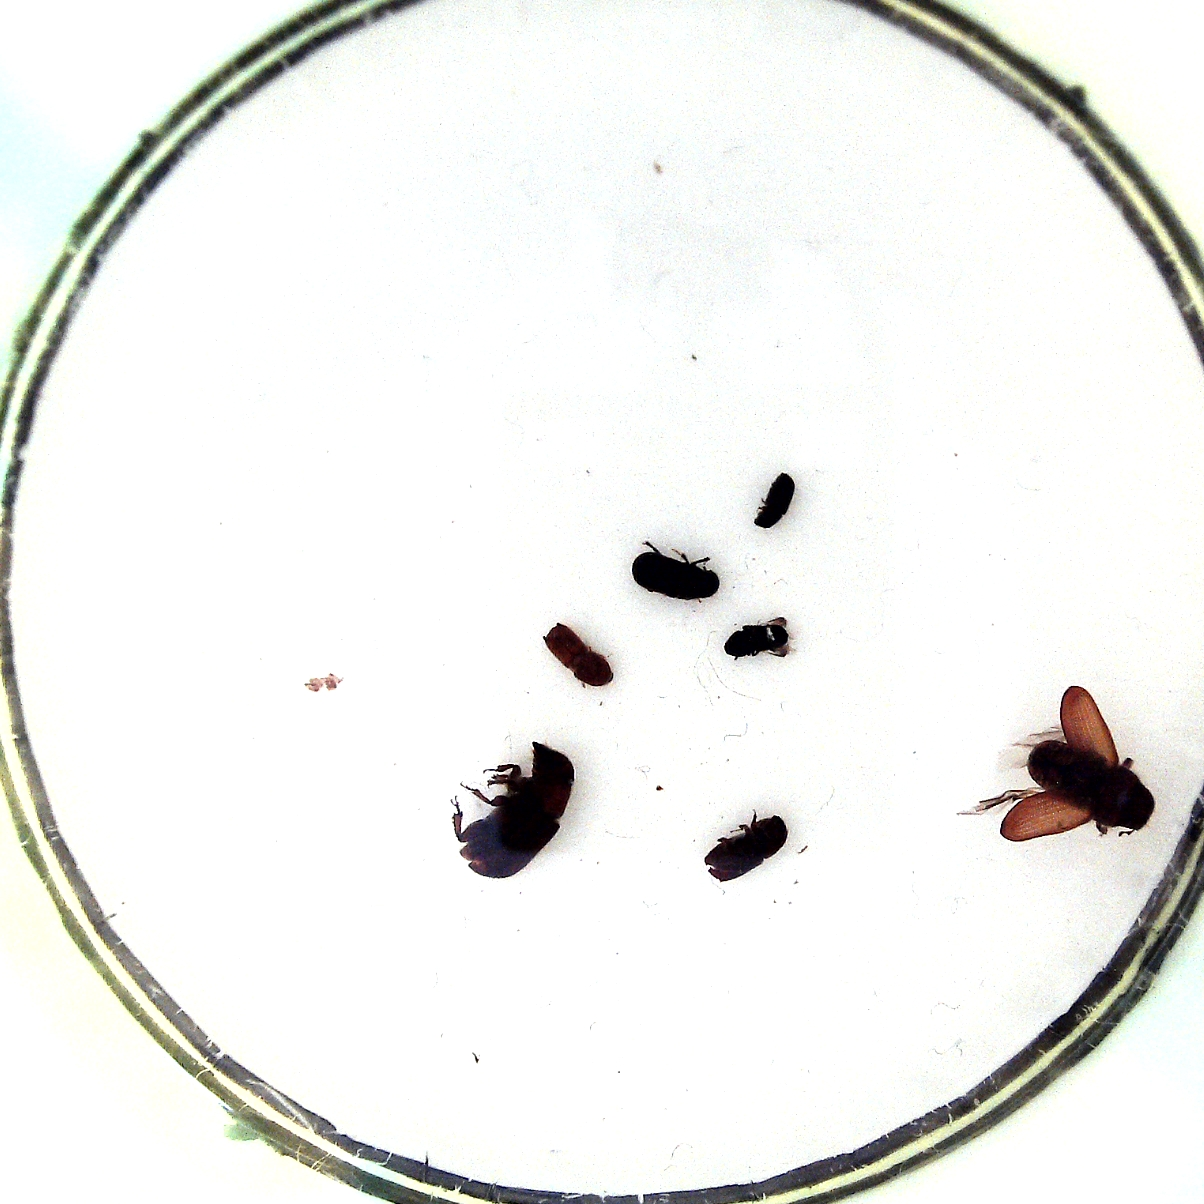Leconte: (963, 678, 1155, 842), (434, 737, 580, 880)
Linnaeus: (700, 809, 793, 886)
acuminatus: (537, 623, 619, 690)
armandi: (624, 542, 723, 605)
coleoptera: (718, 614, 791, 673), (752, 465, 798, 542)
